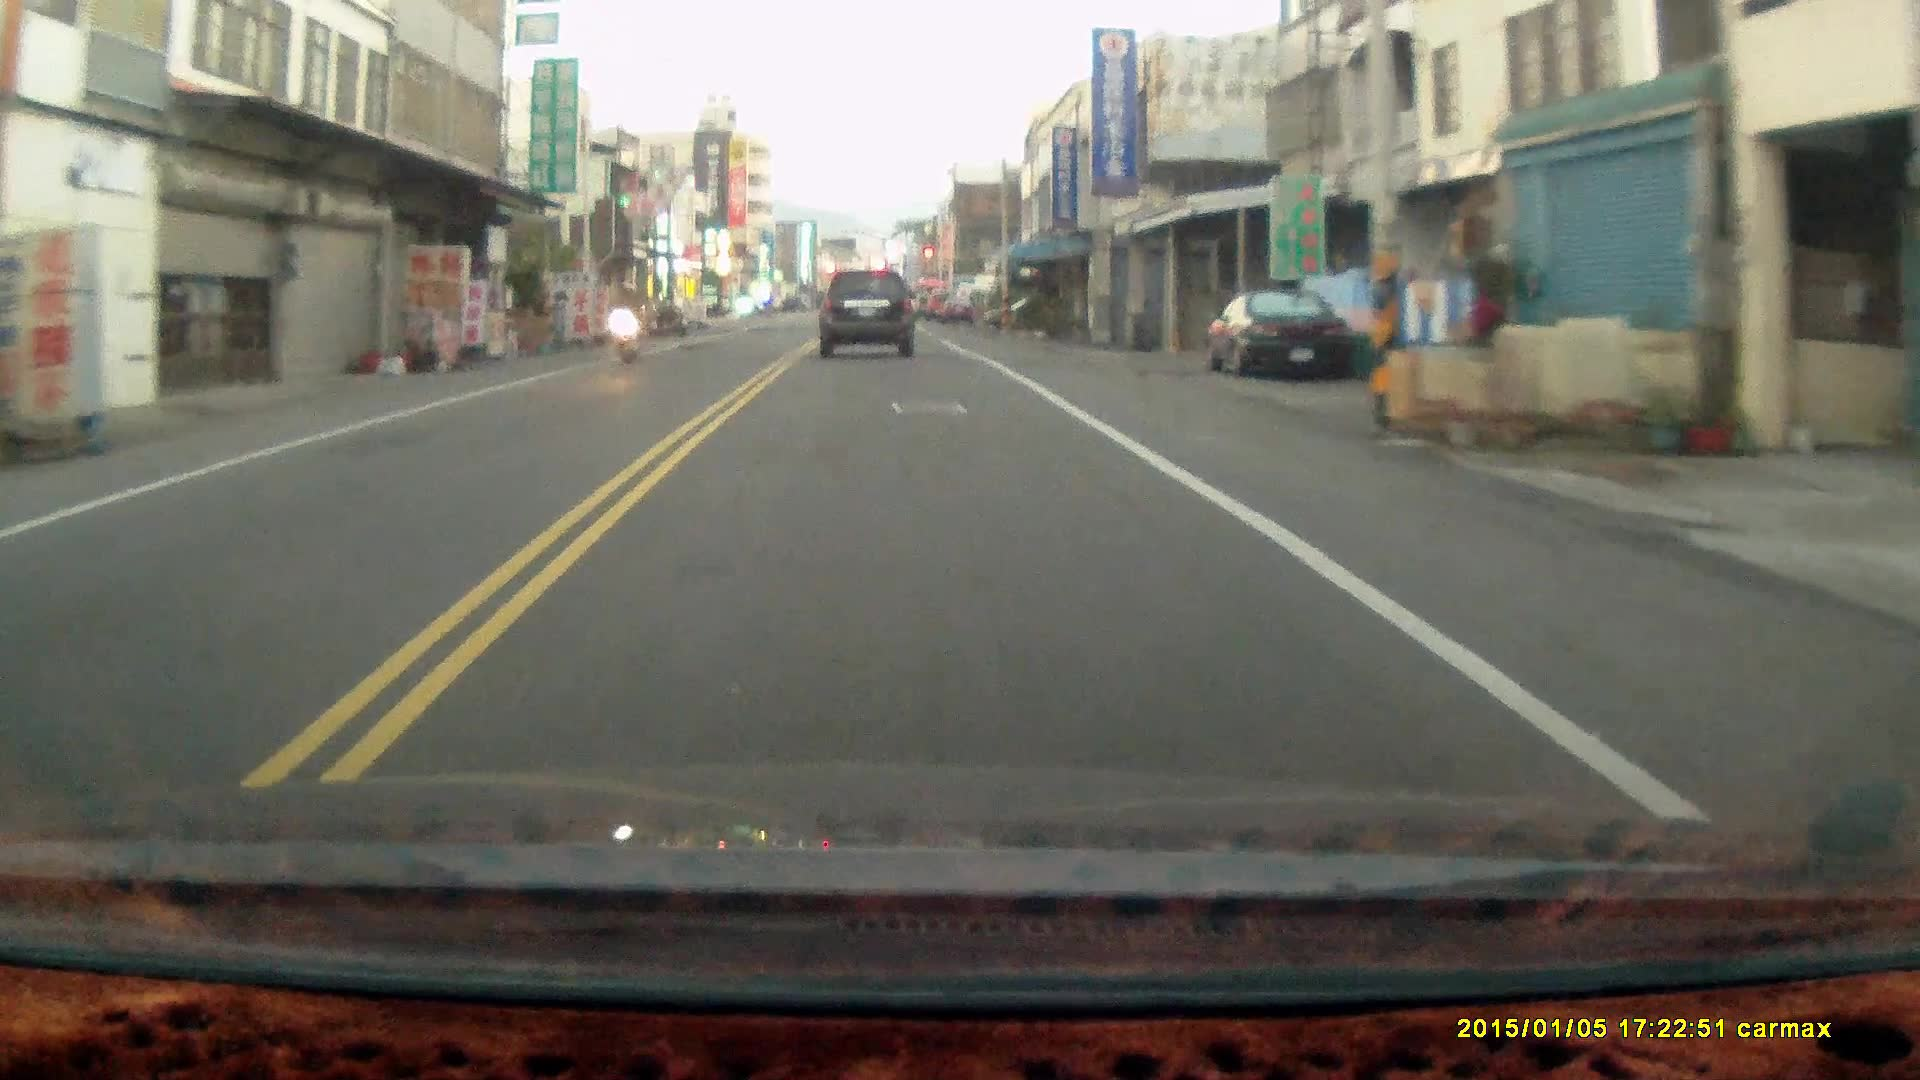rider: (609, 282, 644, 366)
vehicle: (1207, 293, 1355, 387), (819, 272, 917, 361)
